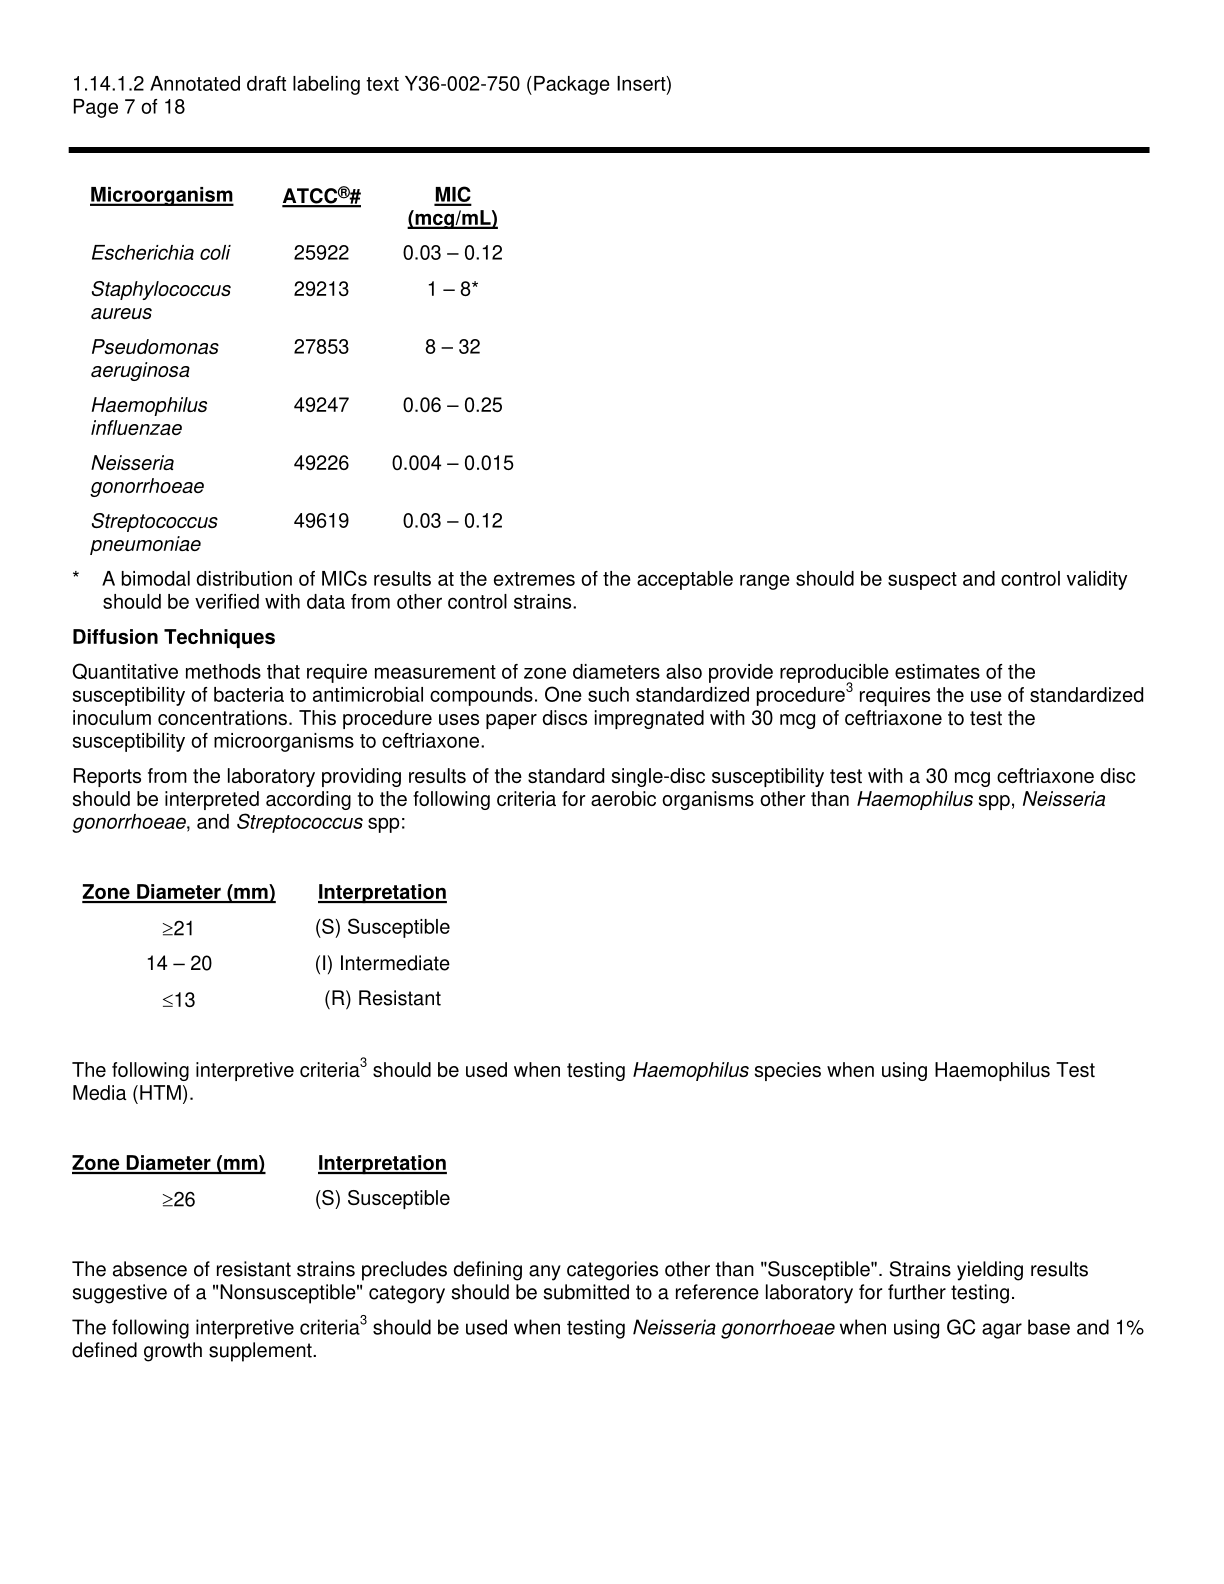nolines: (80, 179, 525, 561), (76, 879, 455, 1018), (64, 1146, 456, 1229)
